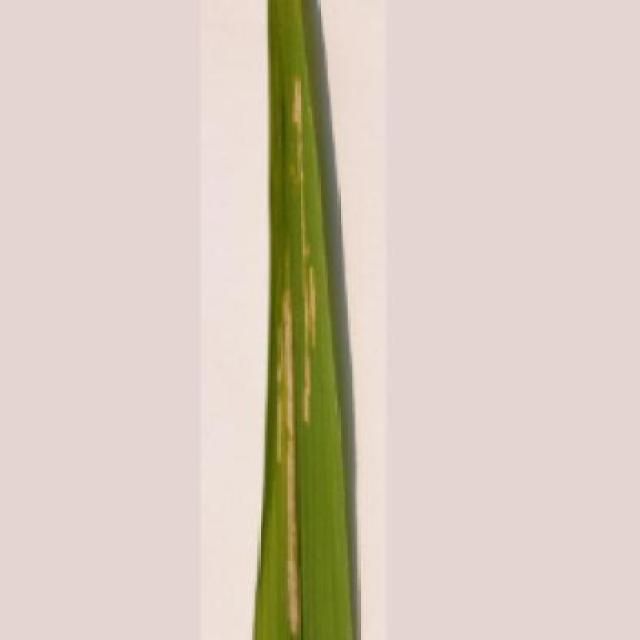Brown_Spot: (253, 0, 362, 640)
